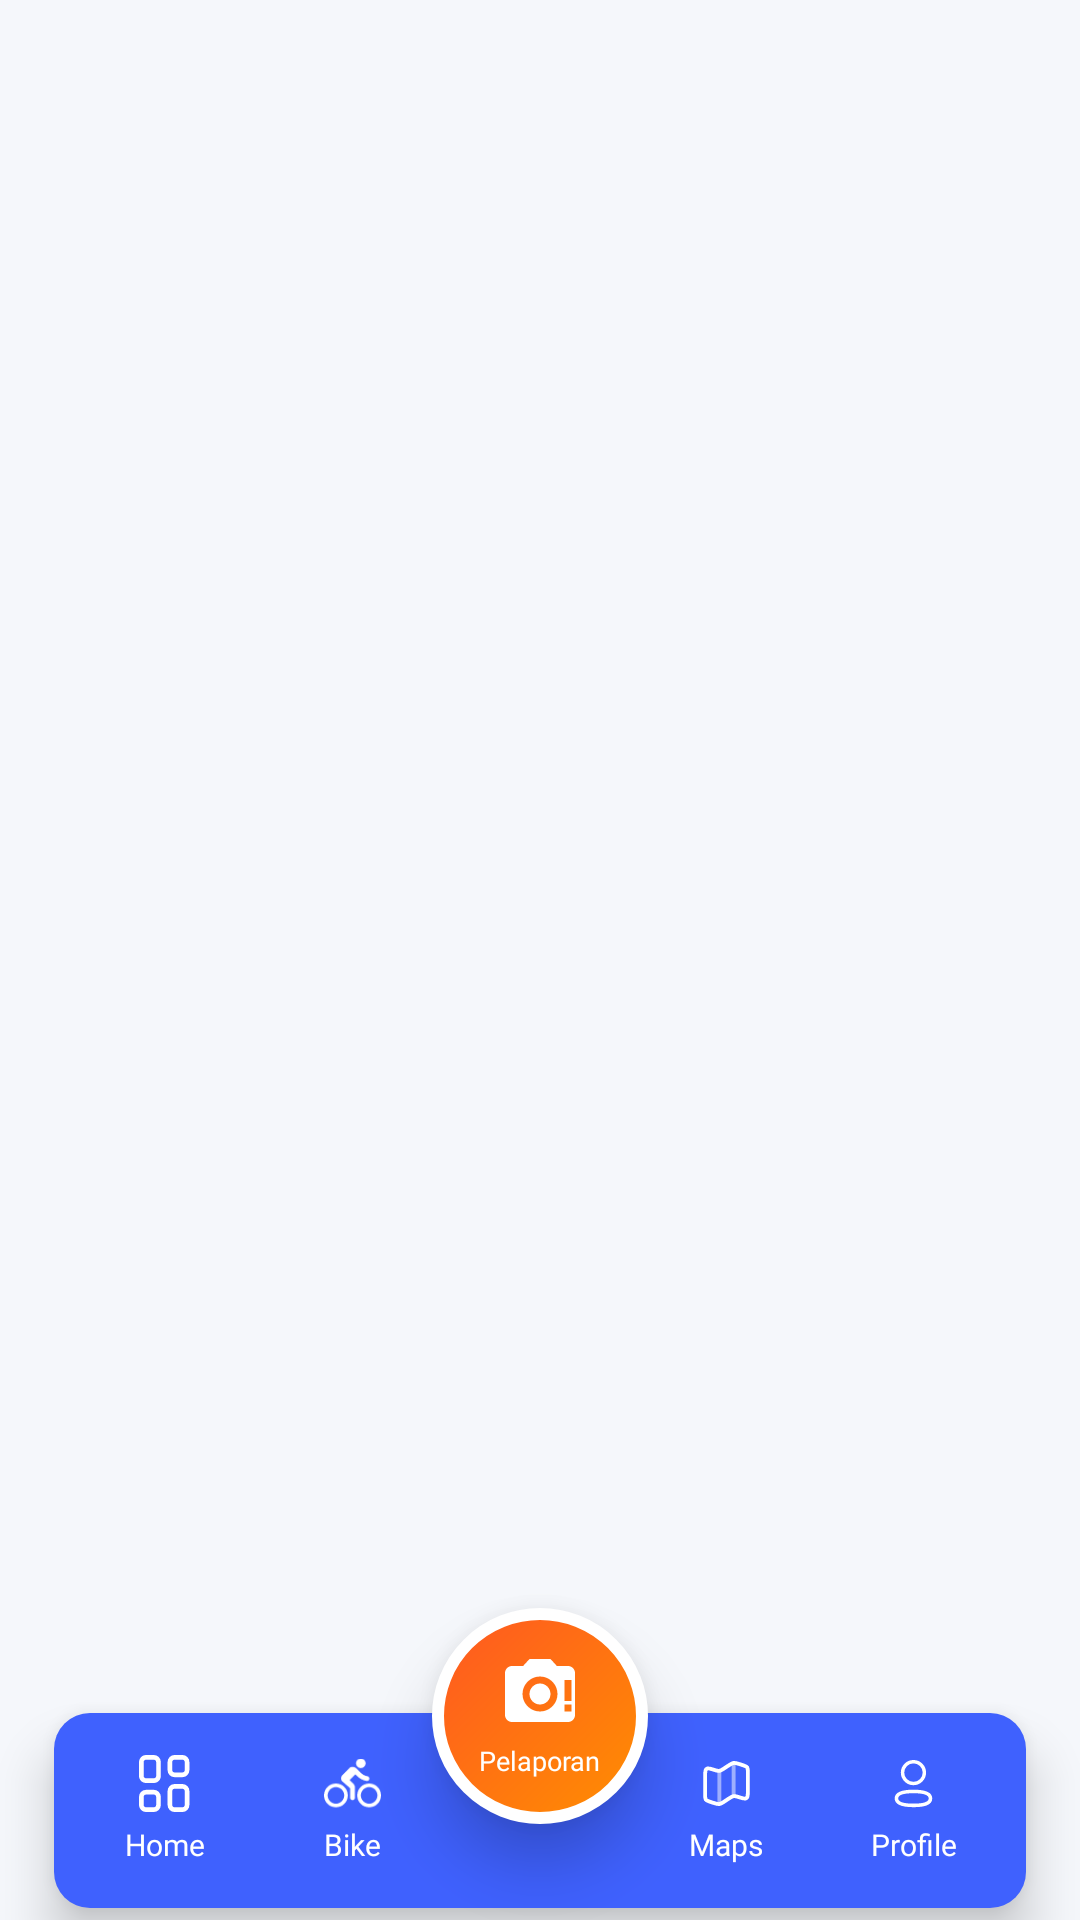

Named icons in this screenshot (1080 x 1920) and their centers, (x=x, y=y):
dashboard putih: (x=164, y=1783)
kendaraanputih: (x=352, y=1783)
